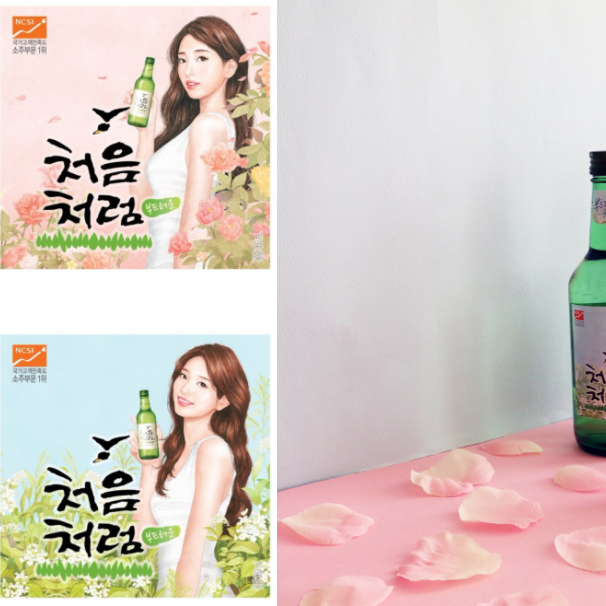soju: (561, 150, 606, 462)
